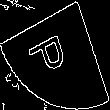P_NE: (32, 28, 78, 82)
